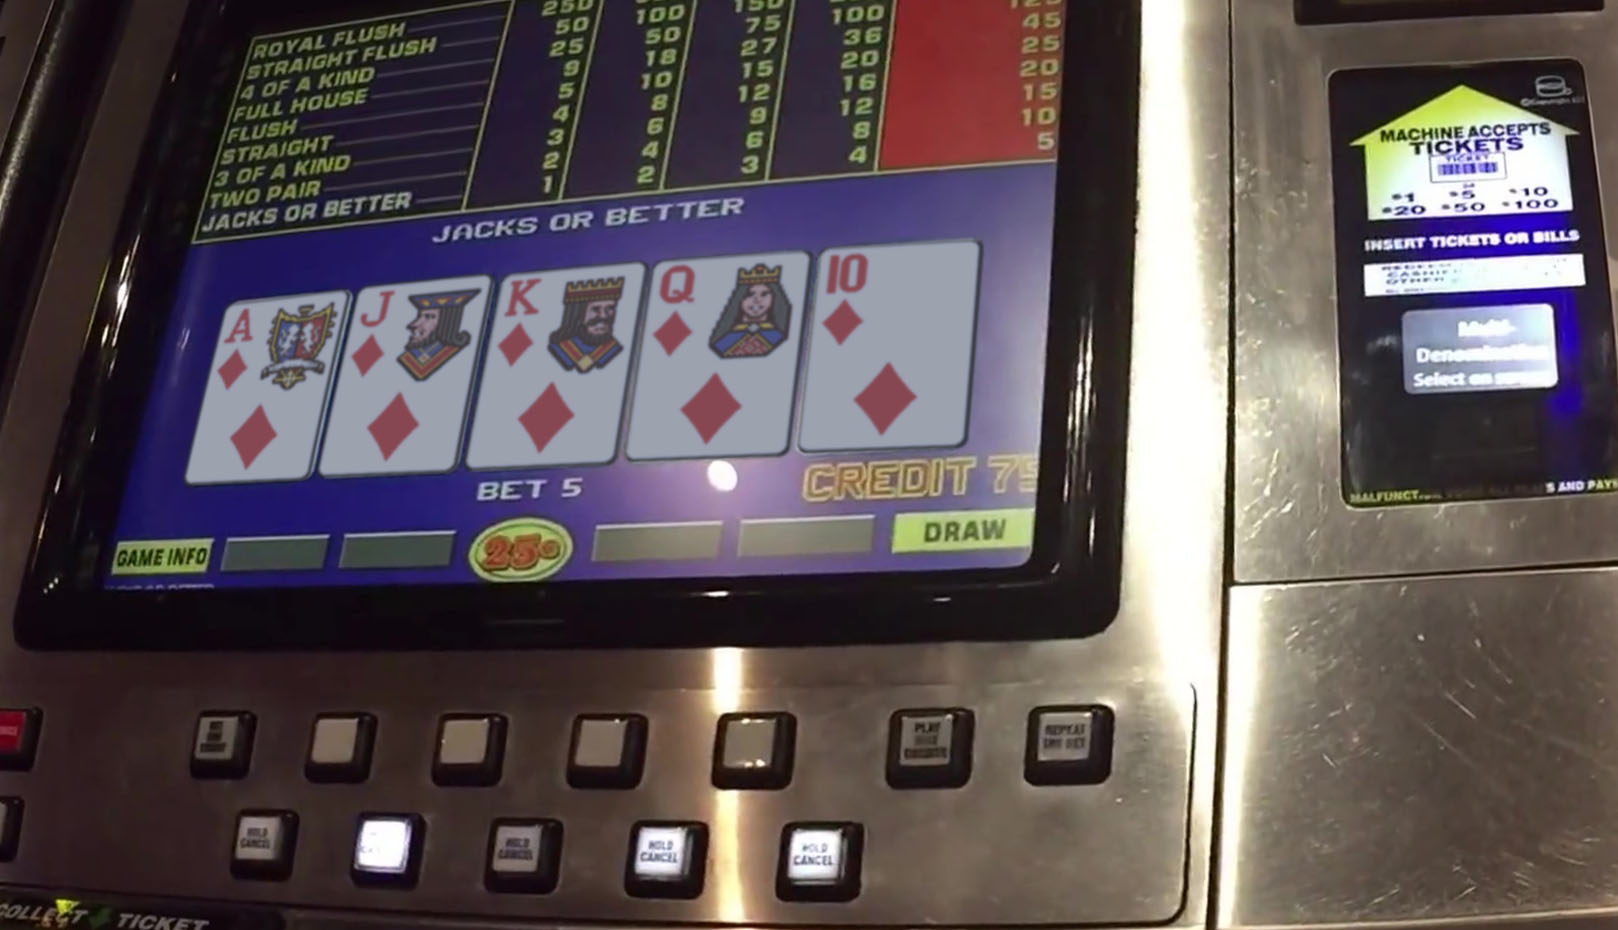DA: (214, 296, 334, 477)
DJ: (344, 280, 477, 471)
DK: (485, 268, 635, 464)
DQ: (645, 256, 792, 460)
DT: (821, 248, 965, 444)
